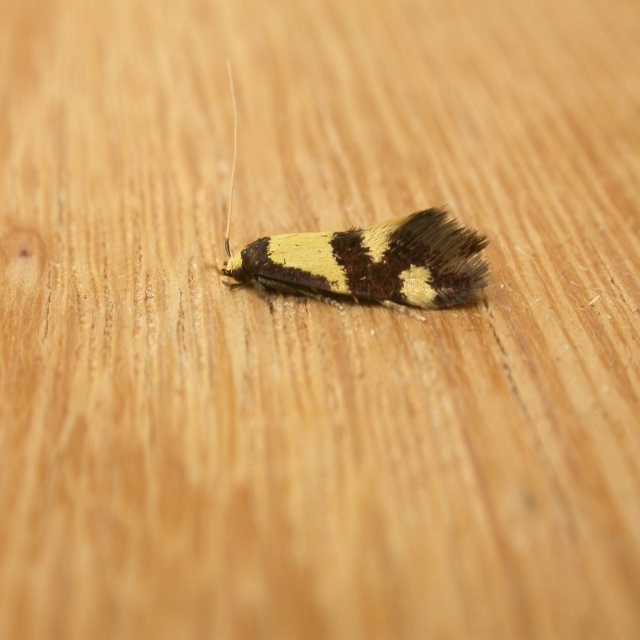Moths and butterflies: (218, 54, 490, 322)
